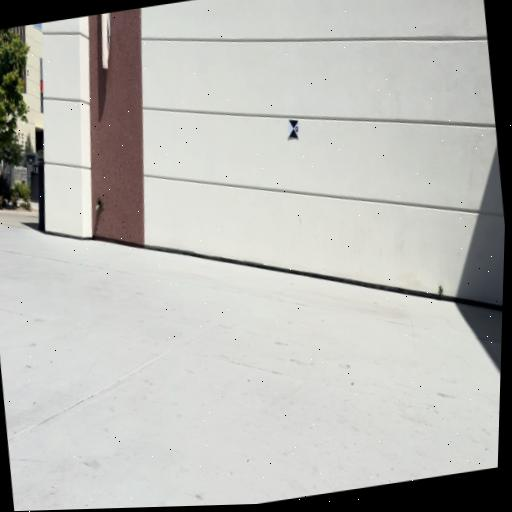target0: (288, 118, 299, 140)
